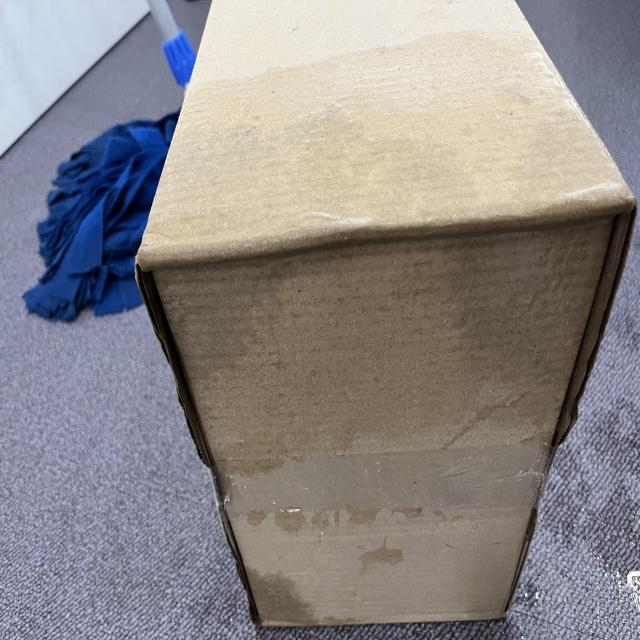wet: (133, 107, 640, 630)
